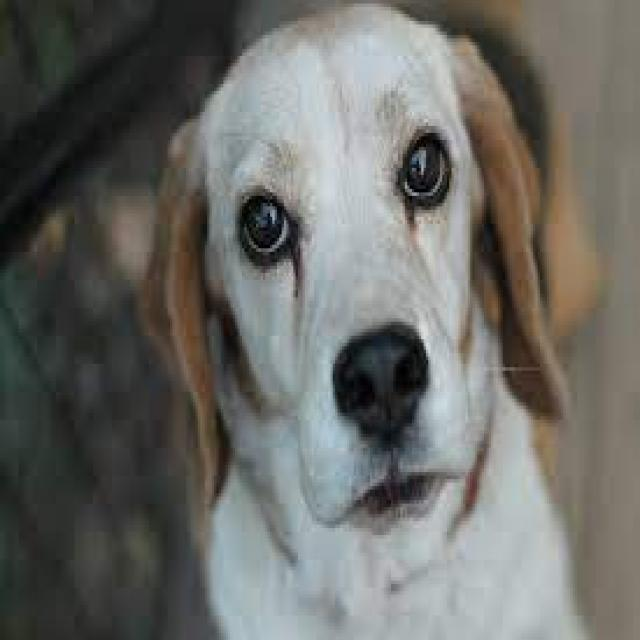Dog: (128, 0, 598, 640)
